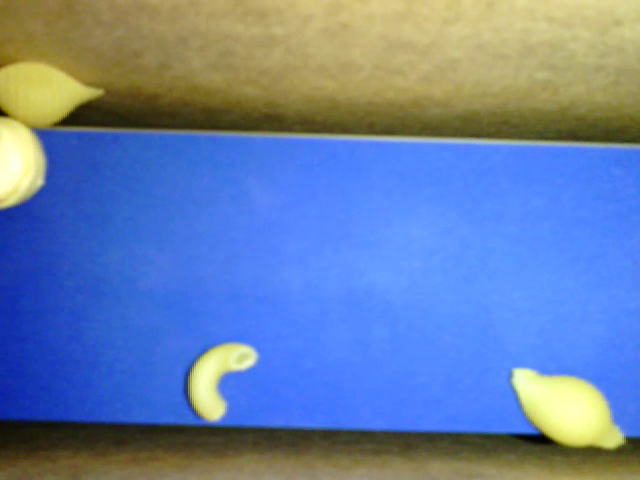elbow: (186, 342, 258, 421)
shell: (511, 367, 625, 449), (1, 60, 105, 128)
tortellini: (1, 119, 47, 208)
